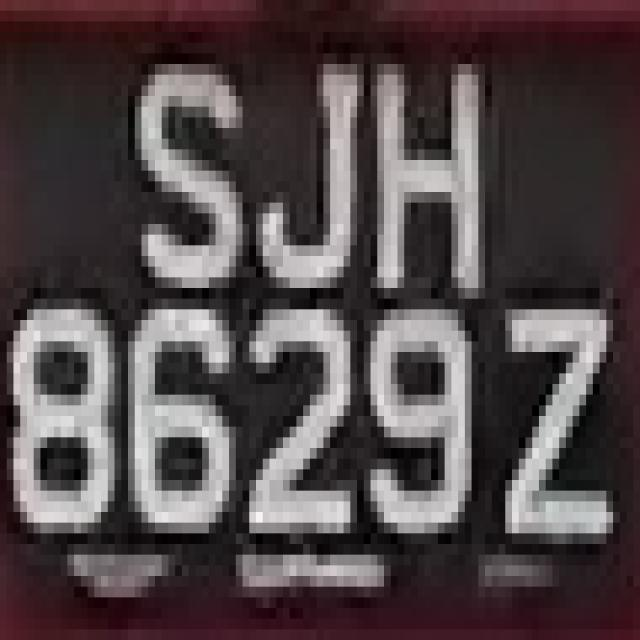2: (229, 277, 371, 555)
6: (115, 310, 242, 534)
8: (13, 256, 122, 555)
9: (371, 277, 485, 544)
H: (350, 53, 492, 320)
J: (243, 21, 357, 299)
S: (121, 53, 256, 310)
Z: (485, 278, 613, 566)
